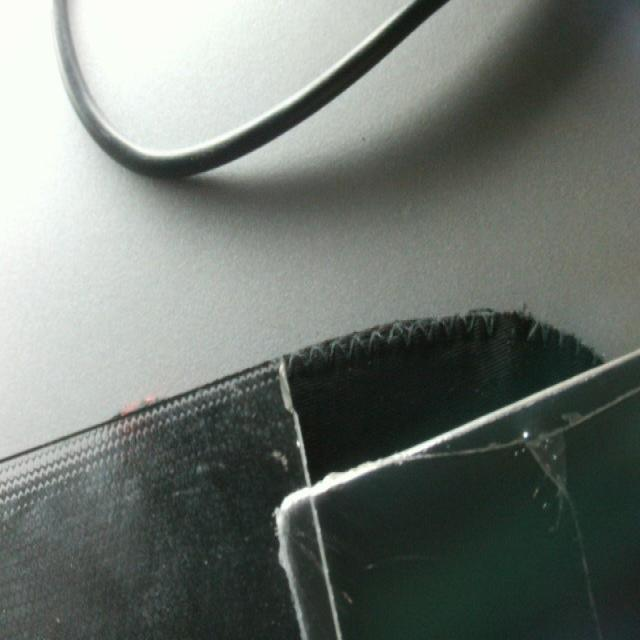edge_chip: (271, 350, 309, 463)
